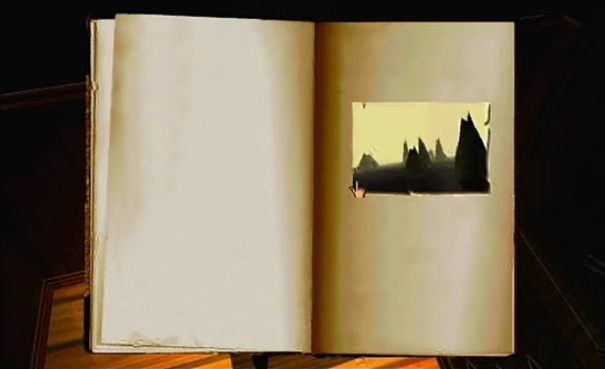Pointer: (348, 177, 369, 200)
